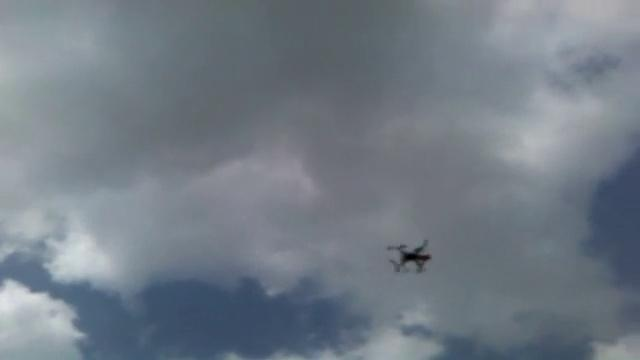drone: (386, 236, 433, 278)
